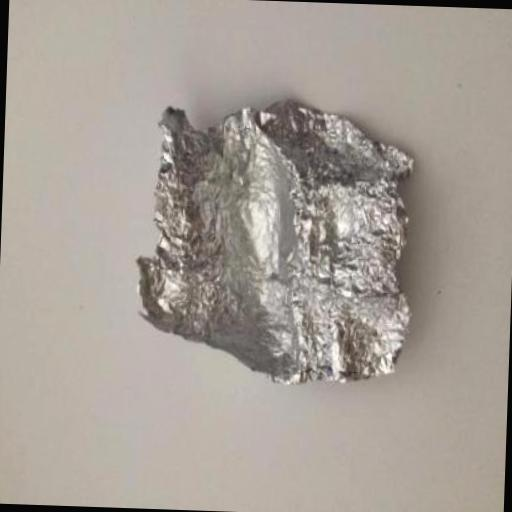metal: (130, 92, 417, 387)
